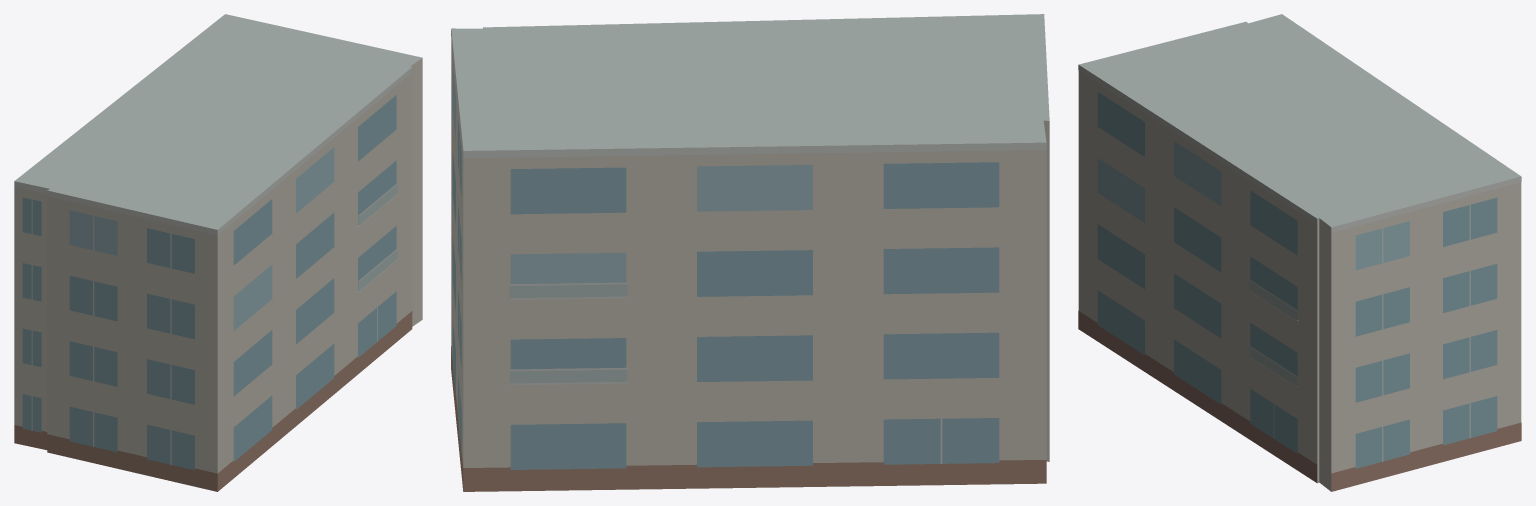
File: survey-upis-32916751.glb
3 renders of one model, left to right at view 1: azimuth 30°, elevation 25°; view 2: azimuth 150°, elevation 25°; view 3: azimuth 270°, elevation 25°, orthographic. The views are drawn at different scales.
Visible parts, largest first — view 1: survey-upis-32916751.tmp; view 2: survey-upis-32916751.tmp; view 3: survey-upis-32916751.tmp.
Part boxes in pixels (x1,y1,x2,y2): survey-upis-32916751.tmp: (14,14,422,491); survey-upis-32916751.tmp: (451,14,1049,491); survey-upis-32916751.tmp: (1078,14,1521,491).
Bounding box in the file's own units: 19.55 × 11.3 × 17.16.
